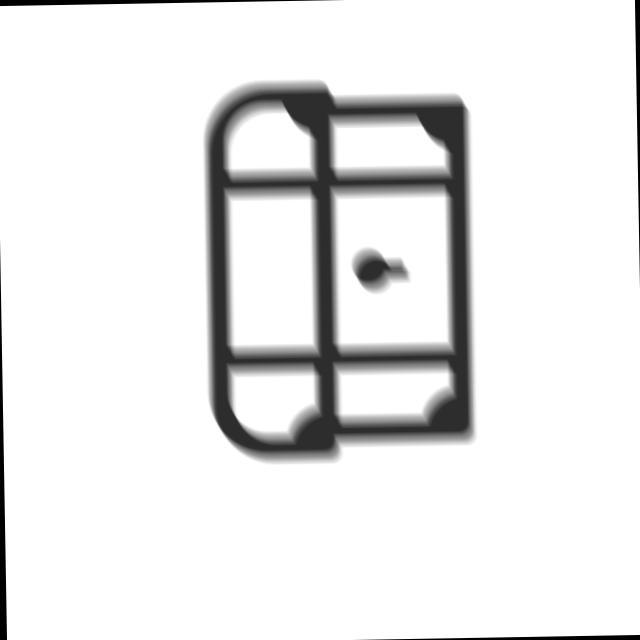treasure_box: (194, 70, 482, 472)
